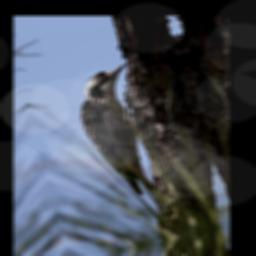Woodpecker: (62, 55, 168, 212)
